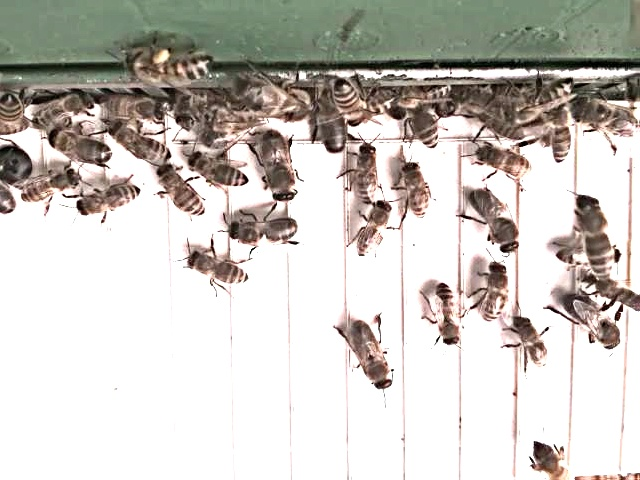Drone: (559, 289, 627, 354), (345, 317, 396, 393), (468, 188, 523, 258), (44, 121, 117, 172), (257, 131, 303, 206), (568, 96, 640, 142), (227, 213, 302, 251), (315, 96, 351, 161)
Worker: (103, 117, 173, 173), (422, 281, 472, 358), (509, 315, 562, 384), (477, 250, 522, 330), (154, 163, 210, 224), (578, 196, 616, 280), (72, 180, 144, 221), (181, 248, 252, 289), (17, 165, 84, 207), (325, 73, 374, 128), (355, 198, 395, 265), (186, 151, 252, 191), (473, 141, 536, 182), (408, 91, 444, 154), (400, 160, 435, 222), (354, 141, 385, 209)
